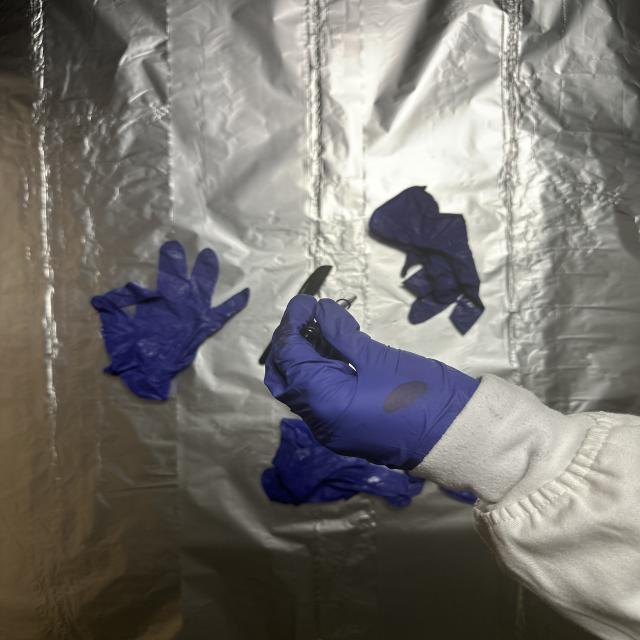gloves_contaminated: (264, 295, 479, 470)
